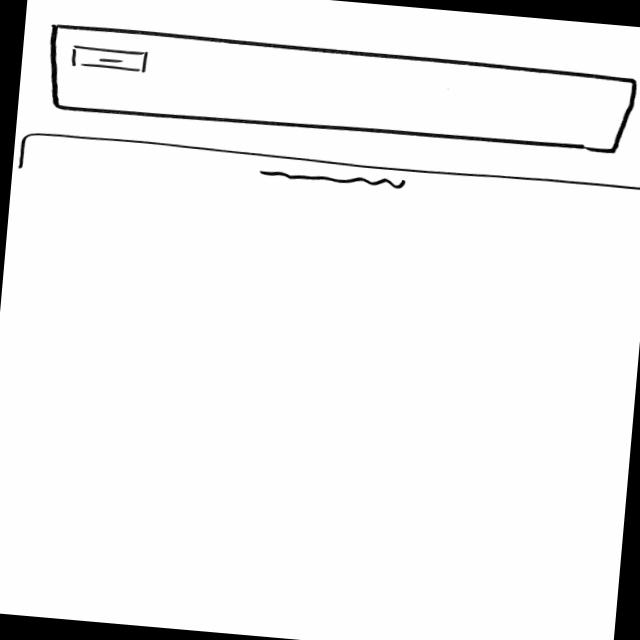container: (40, 20, 637, 158)
icon-button: (67, 44, 148, 74)
text: (258, 166, 408, 192)
